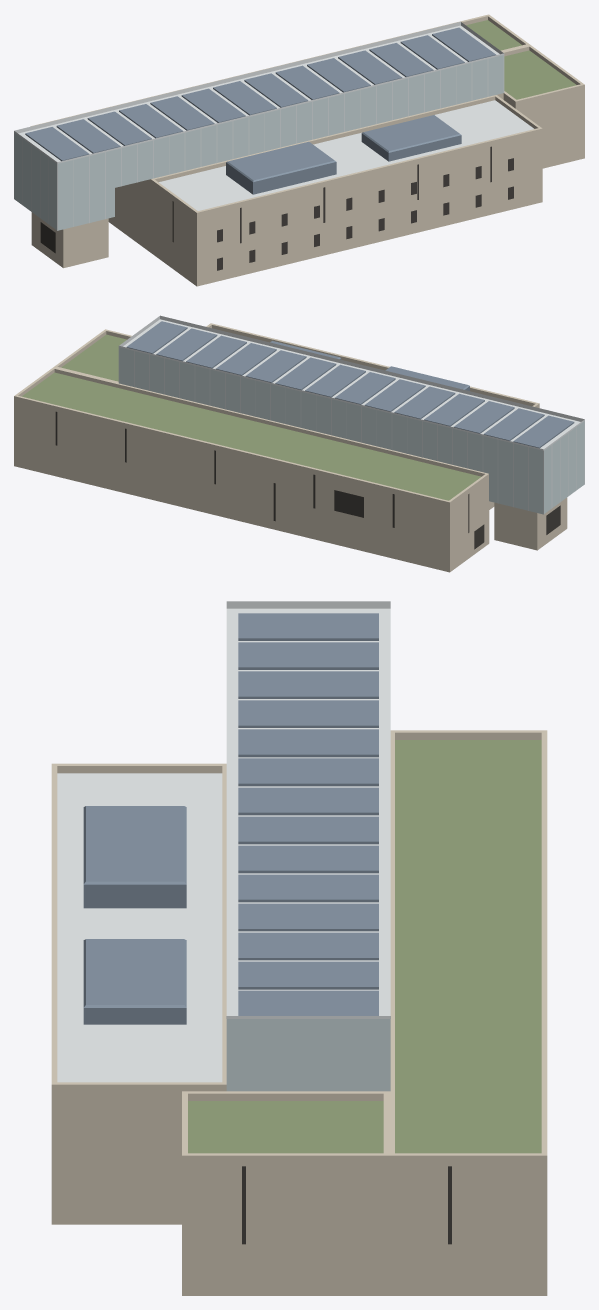
File: phl-barnes-foundation.glb
3 renders of one model, top to bottom at view 1: azimuth 30°, elevation 25°; view 2: azimuth 150°, elevation 25°; view 3: azimuth 270°, elevation 25°, orthographic. The views are drawn at different scales.
Visible parts, largest first — view 1: Barnes Foundation; view 2: Barnes Foundation; view 3: Barnes Foundation.
Part boxes in pixels (<box>): Barnes Foundation: <box>14,14,584,286</box>; Barnes Foundation: <box>14,315,584,572</box>; Barnes Foundation: <box>51,601,547,1295</box>.
Bounding box in the file's own units: 99.01 × 20.8 × 43.4.
